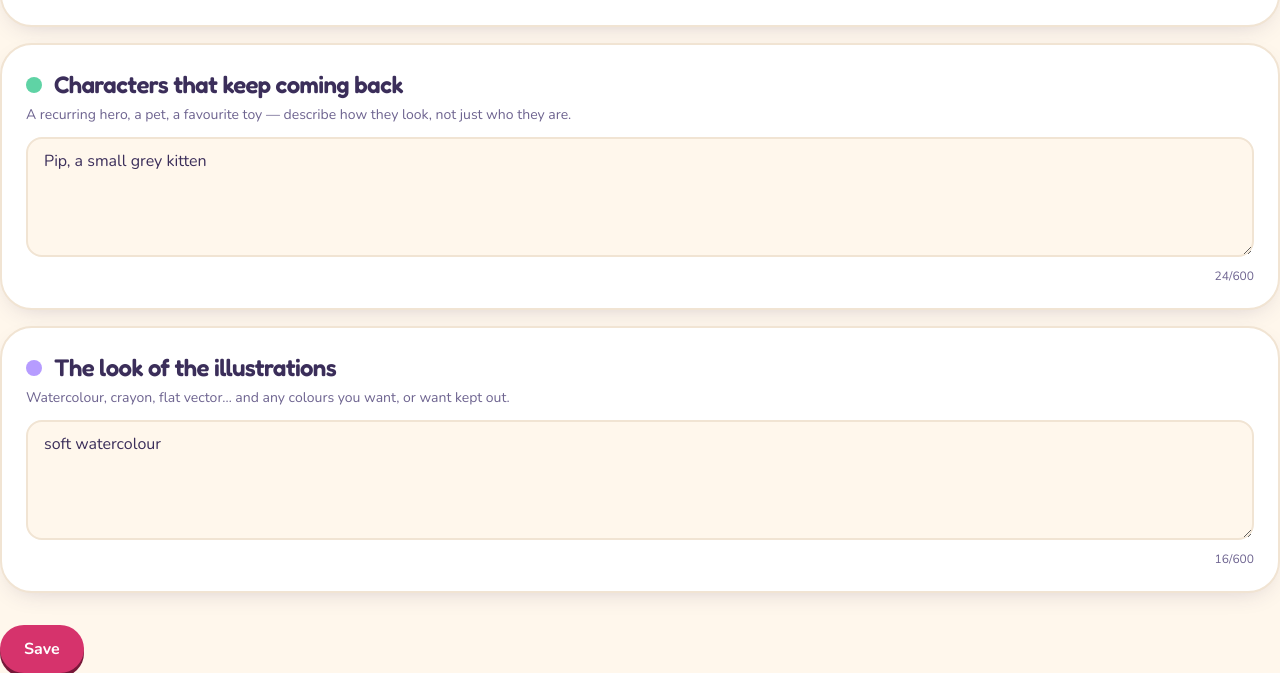
saving › surfaces the server's complaint about an answer that is too long
(page scrolled)
What coordinates should you click on to do the following:
click the button "Save"
I would click on:
 (42, 649)
Its box is [0,625,84,672].
(page scrolled)
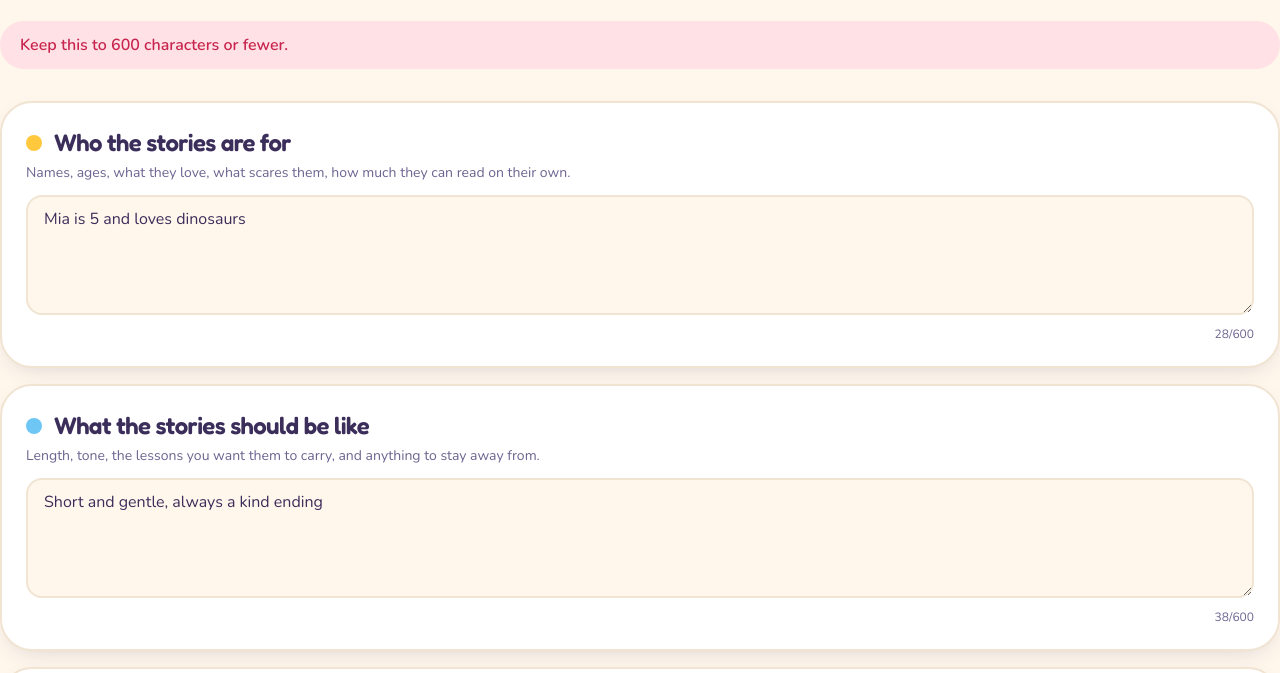
Check: the message shows "600 characters or fewer", box [20,34,288,56]
